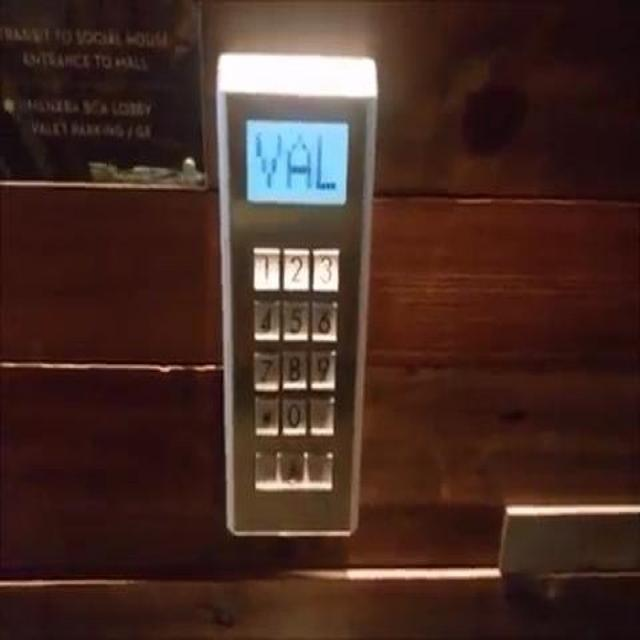0: (280, 389, 307, 436)
1: (251, 244, 280, 293)
2: (280, 244, 311, 293)
3: (311, 244, 340, 292)
4: (251, 292, 280, 341)
5: (280, 292, 311, 340)
6: (310, 293, 340, 340)
7: (250, 348, 280, 389)
8: (280, 348, 307, 389)
9: (307, 348, 336, 391)
blur: (250, 391, 280, 436), (307, 391, 336, 436), (305, 445, 333, 491), (251, 446, 278, 491), (278, 446, 305, 491)
led: (242, 110, 351, 206)
